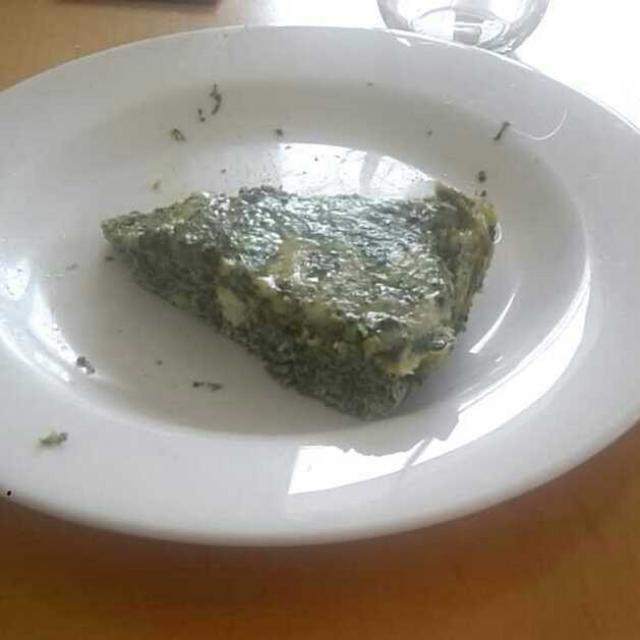omelette: (108, 162, 491, 414)
